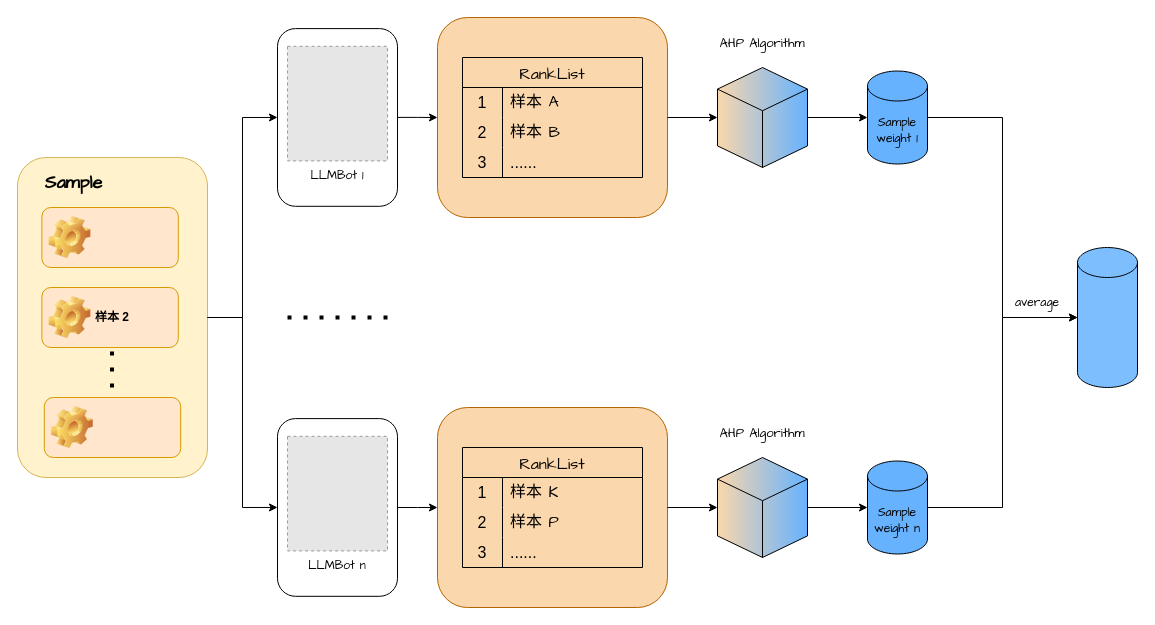
Image size: 1155x625. Some labels were removed from this diagram. Grey dashed boxes stand in for pictures. Here are the shapes that lost their labels. From the top down, the box of each, then its label:
(41, 206, 178, 268): 样本 1
(1076, 246, 1138, 388): Fusion weight
(43, 396, 181, 458): 样本 n
